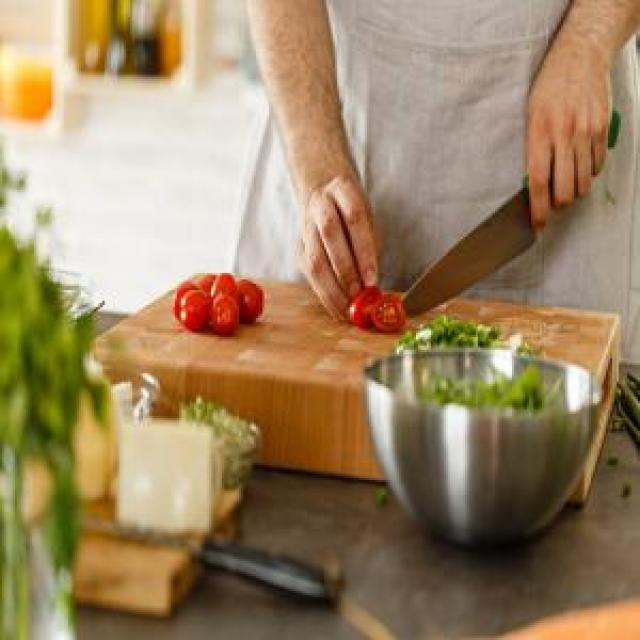knife: (395, 107, 624, 322)
